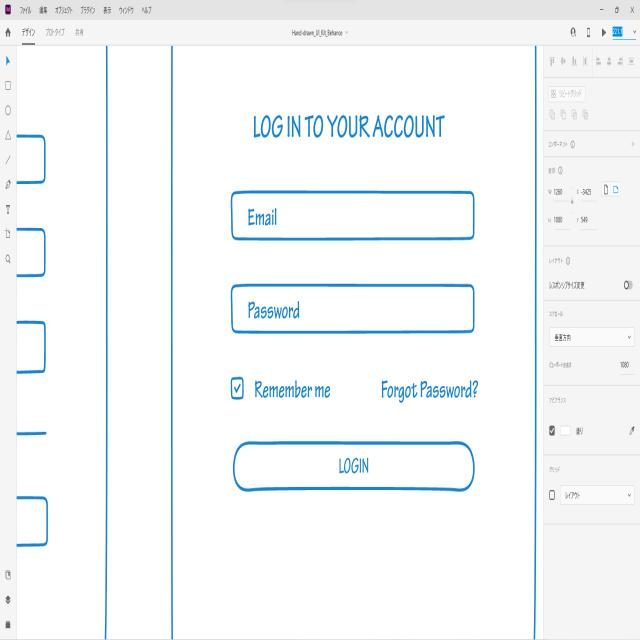checkbox: (229, 374, 246, 403), (548, 423, 556, 437)
toggle: (621, 281, 634, 292)
